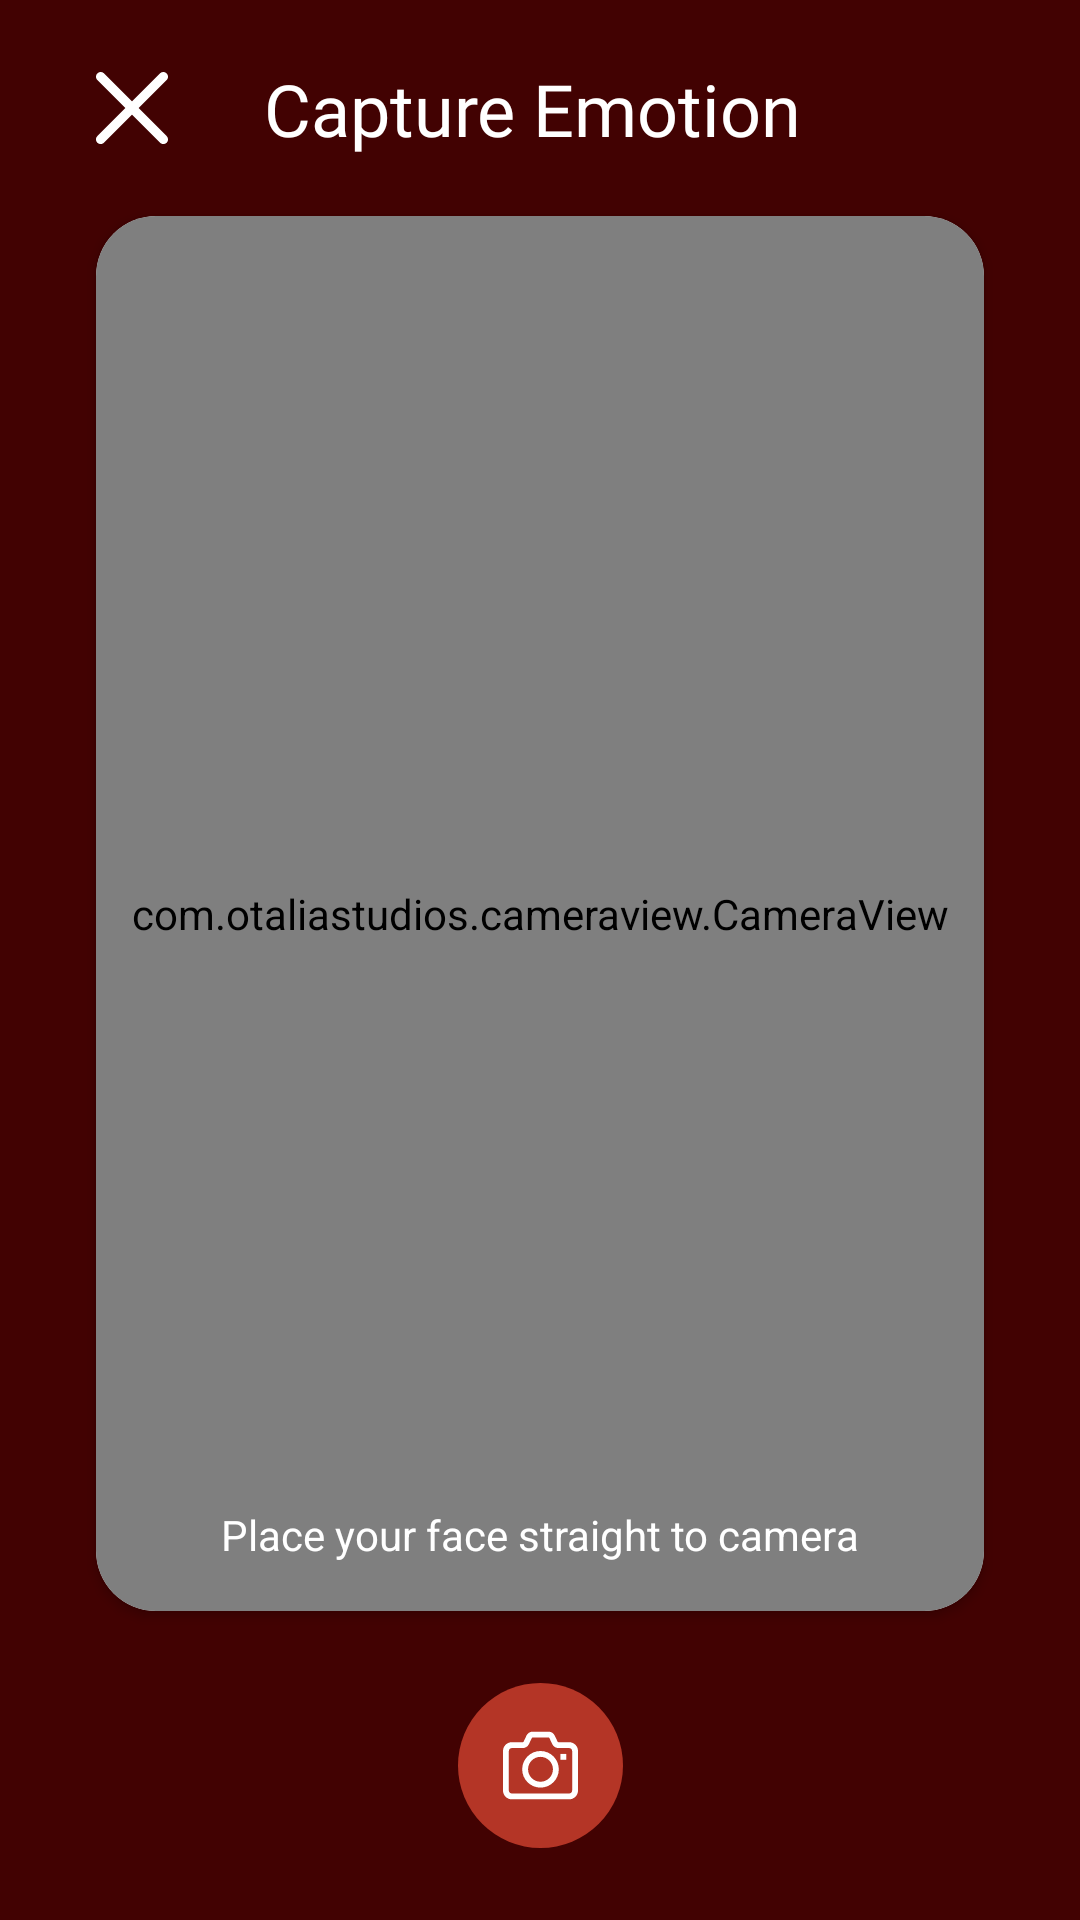

Icons on this 1080px x 1920px Android screen, each with the point to tap as [x,y]:
close: [132,108]
